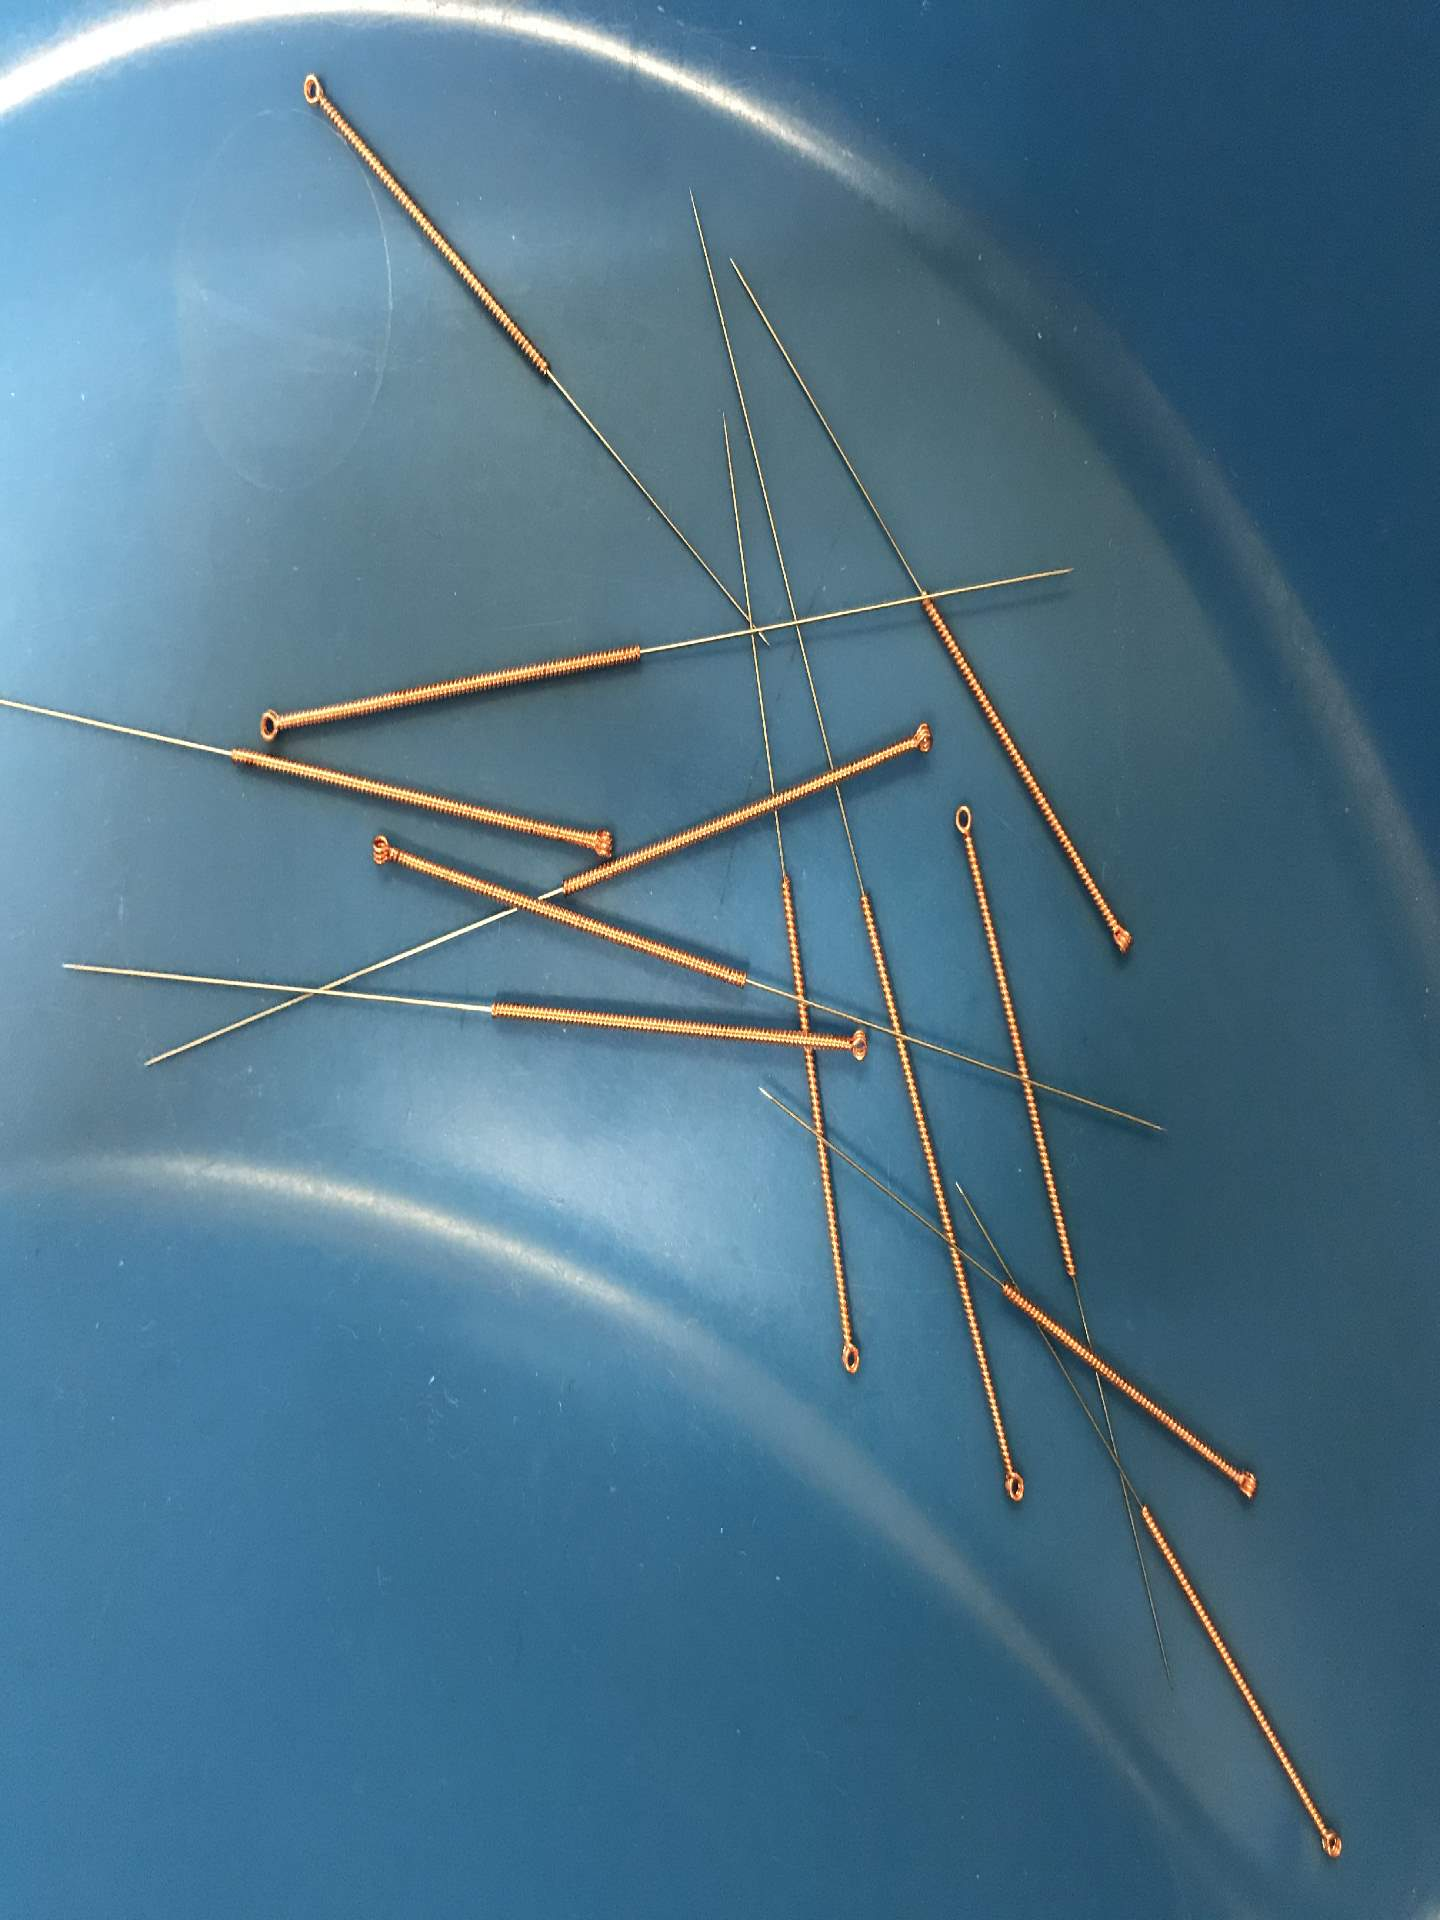needle: (986, 1447, 1038, 1516), (1215, 1454, 1271, 1516), (287, 56, 337, 122), (1097, 907, 1144, 969), (1305, 1813, 1352, 1873), (354, 825, 408, 877), (827, 1327, 871, 1391), (245, 698, 296, 751), (939, 791, 982, 853), (894, 712, 942, 765), (830, 1020, 877, 1070), (572, 816, 619, 865)
